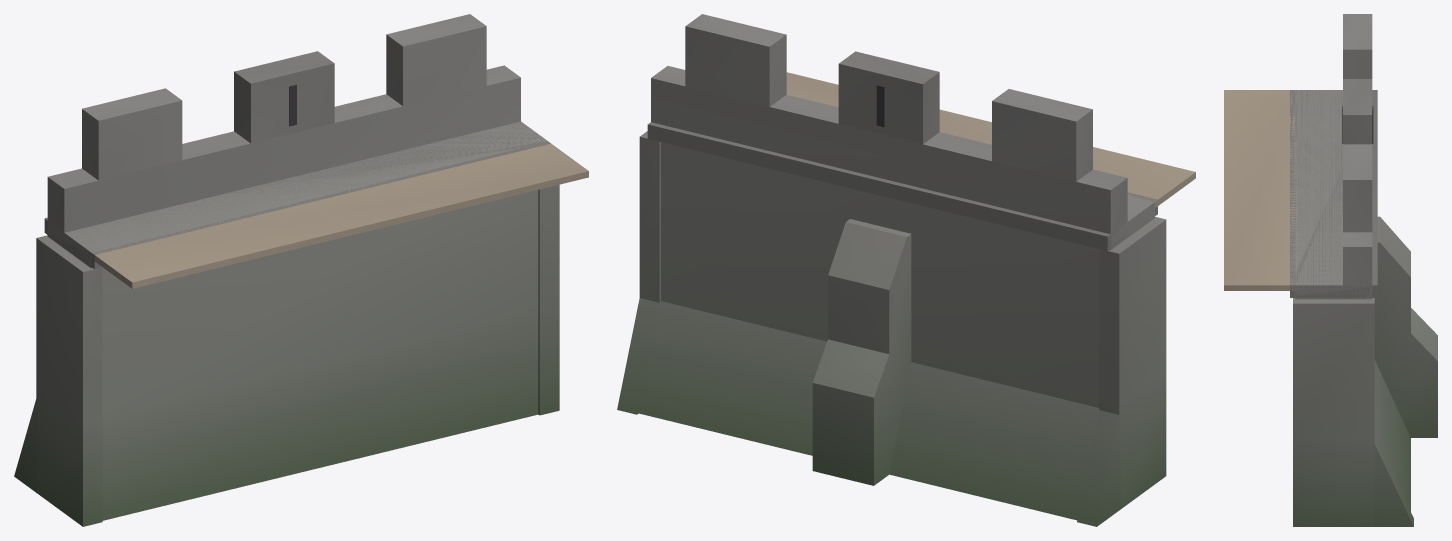
The model's file is town_wall.gltf.
3 views of the same model, side by side, from view 1: azimuth 30°, elevation 25°; view 2: azimuth 150°, elevation 25°; view 3: azimuth 270°, elevation 25° (orthographic). The views are drawn at different scales.
Parts seen in each view (by area): view 1: Body; view 2: Body; view 3: Body.
Boxes of the visible parts, bbox=[...] form: Body: bbox=[14, 14, 588, 526]; Body: bbox=[617, 14, 1195, 526]; Body: bbox=[1224, 14, 1437, 526].
Bounding box in the file's own units: 6.26 × 4.7 × 2.77.
